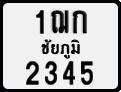letters: (50, 9, 69, 34), (72, 10, 88, 34), (25, 61, 40, 86), (80, 60, 94, 86), (44, 60, 58, 85), (63, 60, 75, 86), (35, 9, 45, 35)
province: (41, 39, 81, 59)
